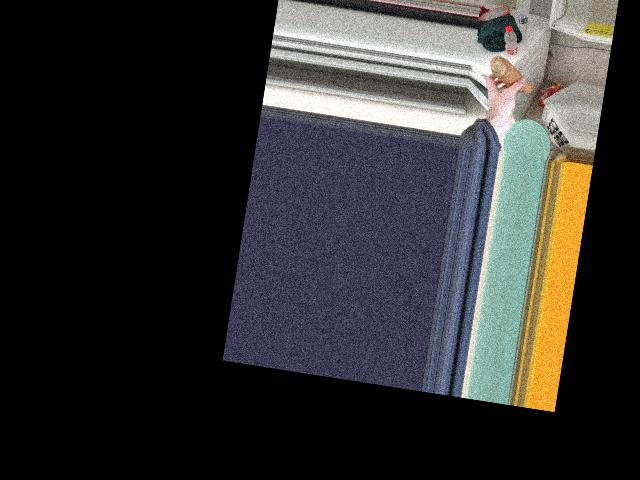sweet_potato: (487, 54, 536, 93)
